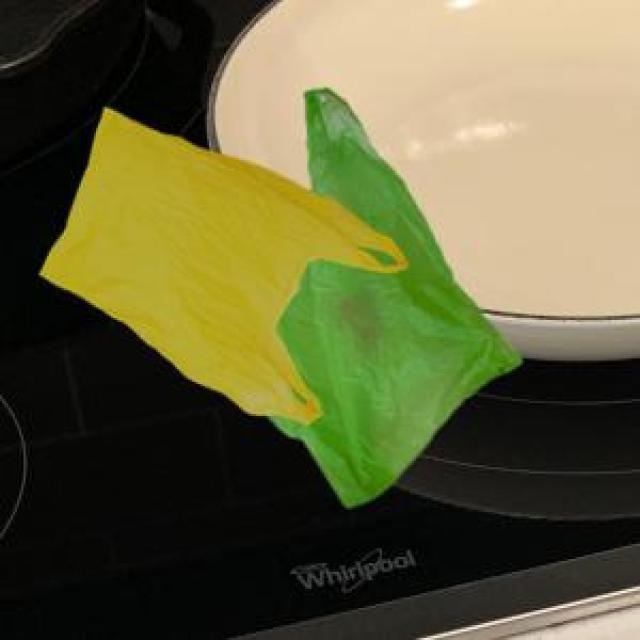waste: (41, 90, 520, 507)
